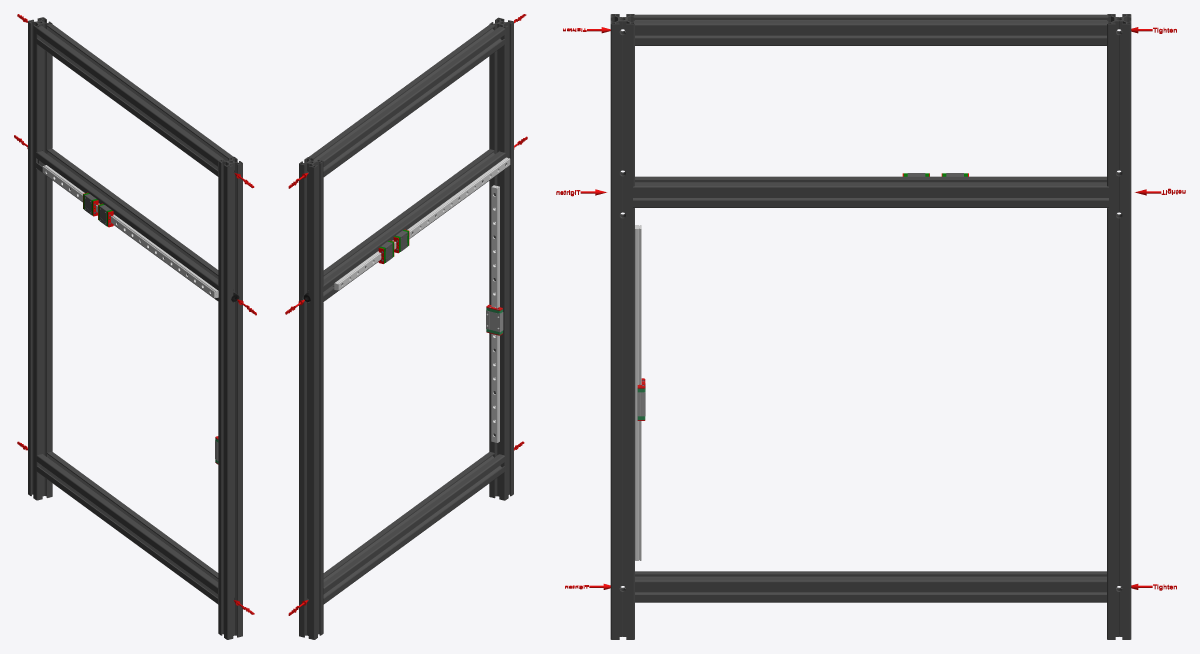
3 views of the same model, side by side, from view 1: azimuth 30°, elevation 25°; view 2: azimuth 150°, elevation 25°; view 3: azimuth 270°, elevation 25° (orthographic). The views are drawn at different scales.
Parts seen in each view (by area): view 1: 01_01__XP__Alu_3030_Pillar___V2.0 v24, 01_01__XP__Alu_3030_Pillar___V2.0 v025, 01_03__XP__Alu_3030_Beam_2___V1.0 v7, 01_03__XP__Alu_3030_Beam_2___V1.0 v008, 01_02__XP__Alu_3030_Beam_1___V1.0 v14, MGNR12R550HM_FILE_2 v3; view 2: 01_01__XP__Alu_3030_Pillar___V2.0 v025, 01_01__XP__Alu_3030_Pillar___V2.0 v24, 01_03__XP__Alu_3030_Beam_2___V1.0 v7, 01_03__XP__Alu_3030_Beam_2___V1.0 v008, 01_02__XP__Alu_3030_Beam_1___V1.0 v14, MGNR12R450HM_FILE_2 v1, MGNR12R550HM_FILE_2 v3; view 3: 01_01__XP__Alu_3030_Pillar___V2.0 v24, 01_01__XP__Alu_3030_Pillar___V2.0 v025, 01_02__XP__Alu_3030_Beam_1___V1.0 v14, 01_03__XP__Alu_3030_Beam_2___V1.0 v7, 01_03__XP__Alu_3030_Beam_2___V1.0 v008, MGNR12R450HM_FILE_2 v1.
Part boxes in pixels (x1,y1,x2,y2): 01_01__XP__Alu_3030_Pillar___V2.0 v24: (218, 156, 242, 639); 01_01__XP__Alu_3030_Pillar___V2.0 v025: (28, 17, 52, 500); 01_03__XP__Alu_3030_Beam_2___V1.0 v7: (36, 24, 232, 176); 01_03__XP__Alu_3030_Beam_2___V1.0 v008: (36, 451, 218, 604); 01_02__XP__Alu_3030_Beam_1___V1.0 v14: (36, 148, 218, 301); MGNR12R550HM_FILE_2 v3: (42, 165, 218, 298); 01_01__XP__Alu_3030_Pillar___V2.0 v025: (299, 157, 323, 639); 01_01__XP__Alu_3030_Pillar___V2.0 v24: (489, 17, 513, 500); 01_03__XP__Alu_3030_Beam_2___V1.0 v7: (309, 24, 504, 176); 01_03__XP__Alu_3030_Beam_2___V1.0 v008: (323, 452, 504, 604); 01_02__XP__Alu_3030_Beam_1___V1.0 v14: (323, 149, 505, 301); MGNR12R450HM_FILE_2 v1: (491, 185, 499, 442); MGNR12R550HM_FILE_2 v3: (334, 157, 510, 290); 01_01__XP__Alu_3030_Pillar___V2.0 v24: (610, 14, 634, 639); 01_01__XP__Alu_3030_Pillar___V2.0 v025: (1107, 14, 1131, 639); 01_02__XP__Alu_3030_Beam_1___V1.0 v14: (633, 176, 1108, 207); 01_03__XP__Alu_3030_Beam_2___V1.0 v7: (635, 14, 1106, 45); 01_03__XP__Alu_3030_Beam_2___V1.0 v008: (635, 571, 1106, 602); MGNR12R450HM_FILE_2 v1: (635, 225, 641, 560).
Bounding box in the file's own units: 0.043 × 0.835 × 0.7733.
